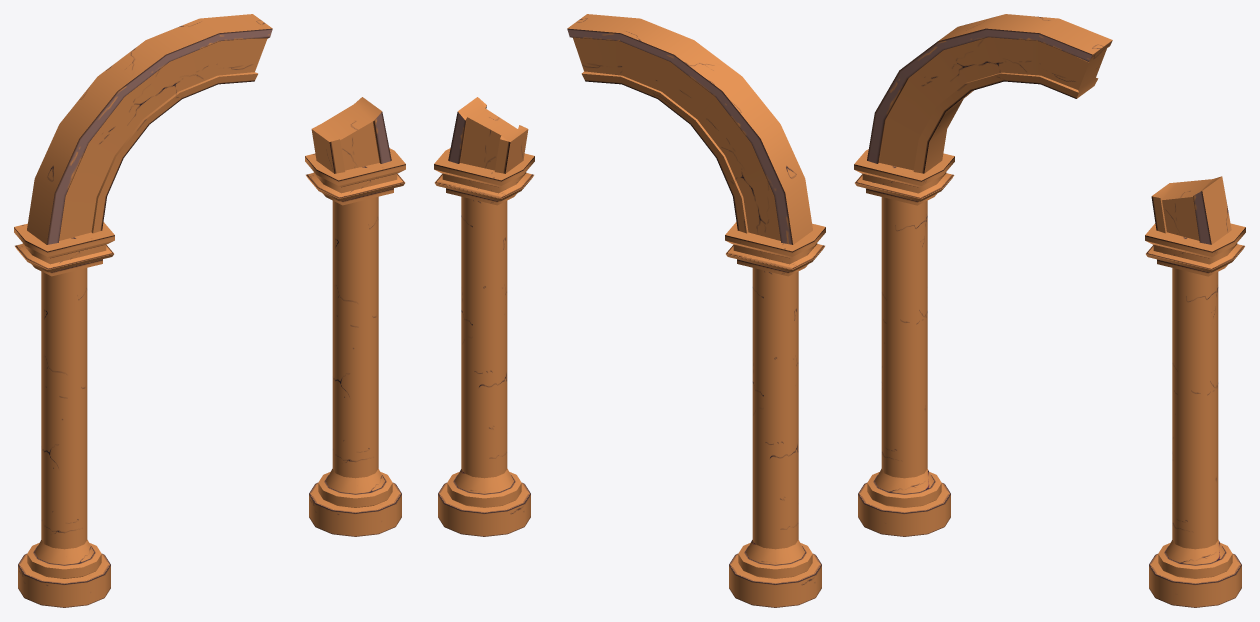
The model's file is BrokenArchway_1.fbx.
3 views of the same model, side by side, from view 1: azimuth 30°, elevation 25°; view 2: azimuth 150°, elevation 25°; view 3: azimuth 330°, elevation 25° (orthographic).
Visible parts, largest first — view 1: Archway; view 2: Archway; view 3: Archway.
Boxes of the visible parts, left/top/right/bottom form: Archway: left=14, top=14, right=405, bottom=607; Archway: left=434, top=14, right=825, bottom=607; Archway: left=854, top=14, right=1245, bottom=607.
Size of the model in its own units: 932 by 202 by 1263.
